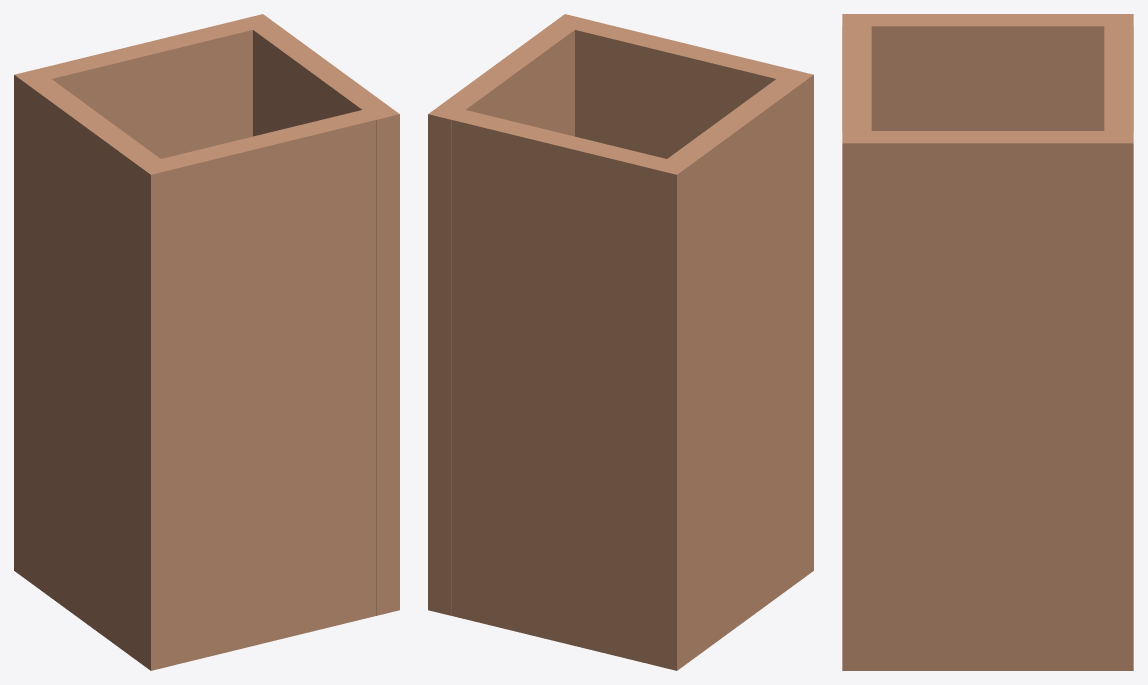
File: pen holder.fbx
The picture shows the model from 3 angles, left to right: view 1: azimuth 30°, elevation 25°; view 2: azimuth 150°, elevation 25°; view 3: azimuth 270°, elevation 25°; orthographic projection. The views are drawn at different scales.
Parts seen in each view (by area): view 1: Cube.001; view 2: Cube.001; view 3: Cube.001.
Boxes of the visible parts, bbox=[...] form: Cube.001: bbox=[14, 14, 399, 670]; Cube.001: bbox=[428, 14, 813, 670]; Cube.001: bbox=[842, 14, 1133, 670].
Bounding box in the file's own units: 105 × 200 × 100.
